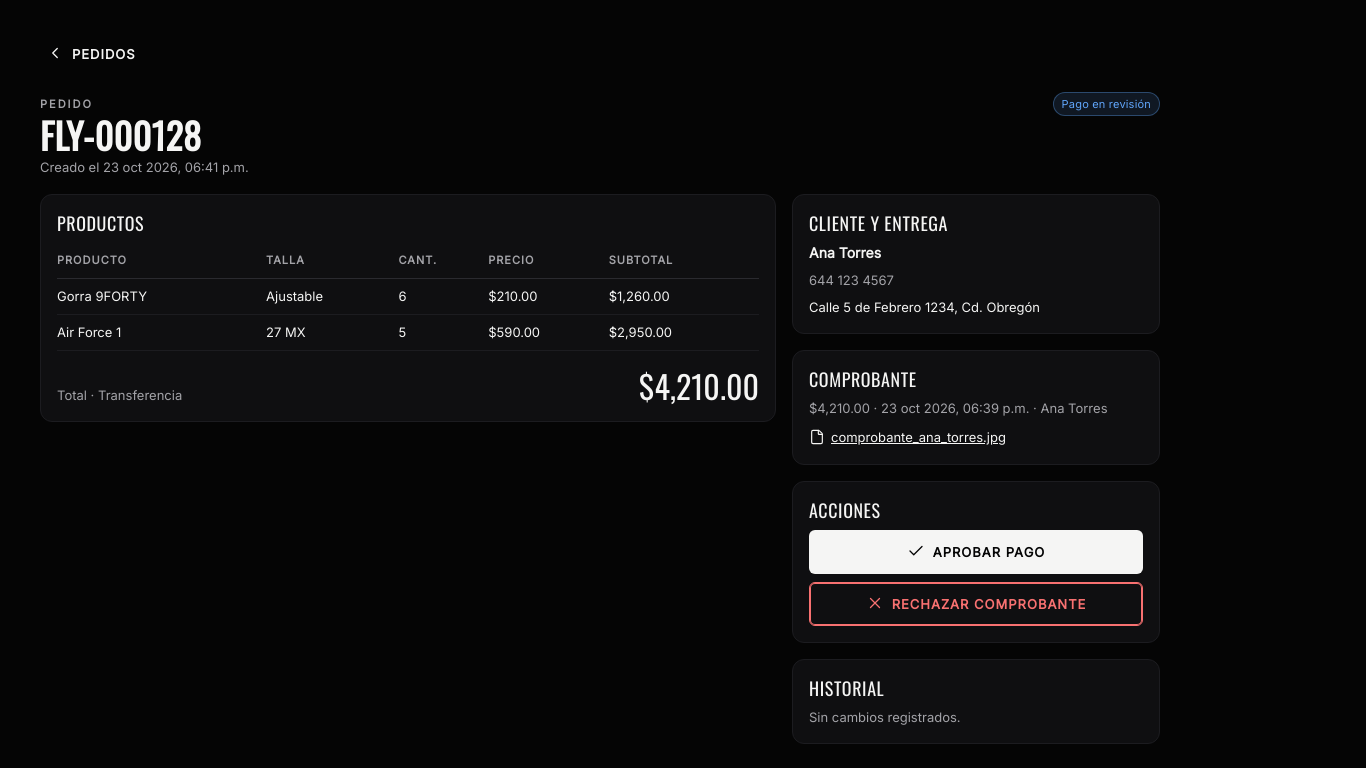
Test case: DetallePedidoVista · Front 3 · validar pago › no rechaza sin motivo: pide indicarlo y lo quita al elegir uno
The image size is (1366, 768).
Expected: the heading "FLY-000128" is shown, 40,108 -> 201,161
Click the button "Rechazar comprobante": (976, 604) 809,582 -> 1143,626
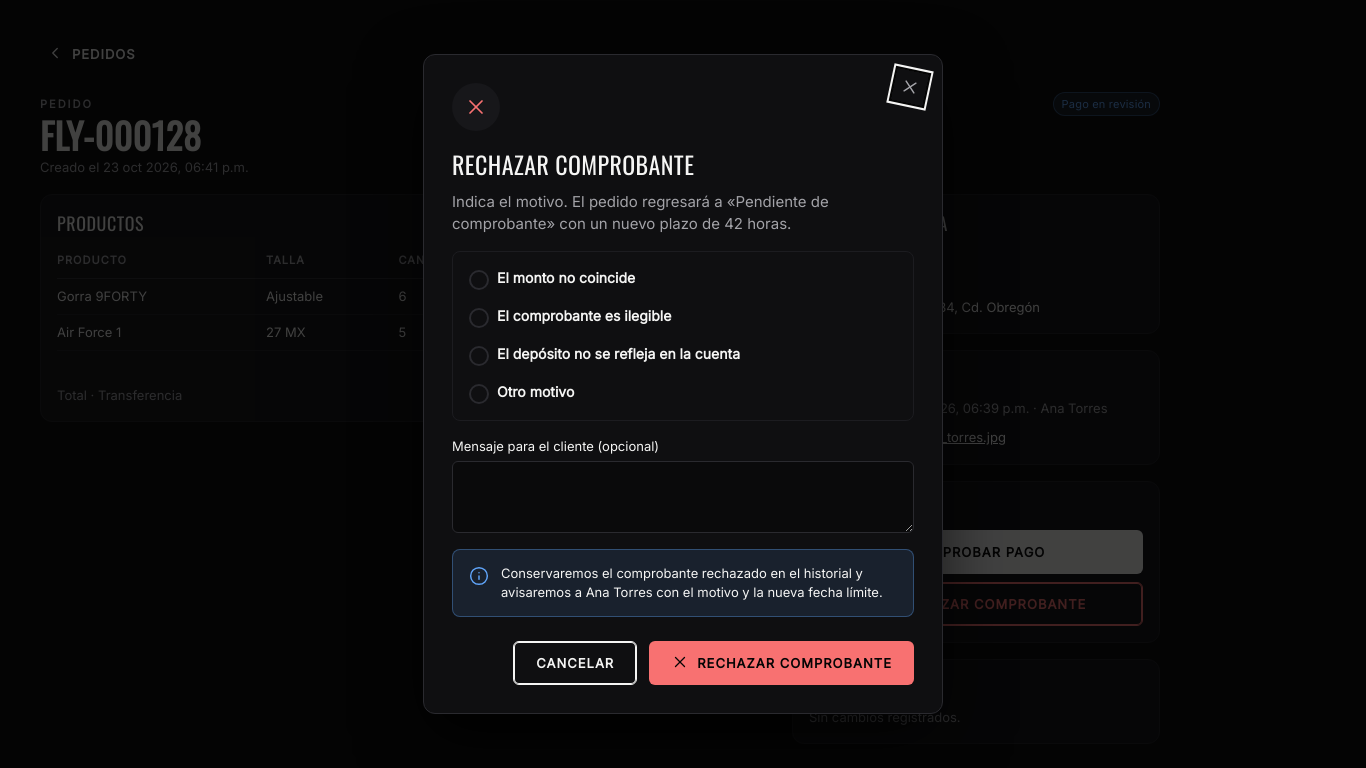
Click the button "Rechazar comprobante": (782, 663) 649,641 -> 914,685
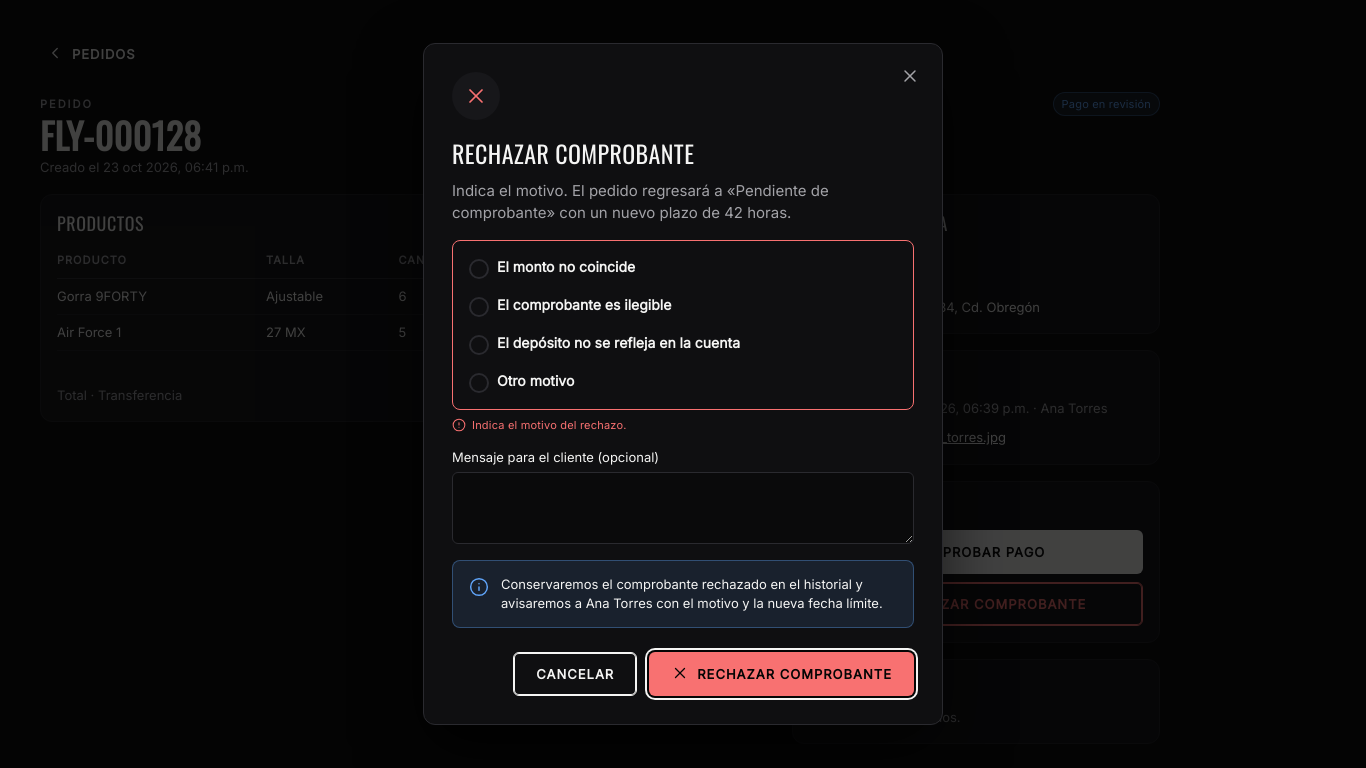
Result: the text "Indica el motivo del rechazo." is shown at 452,418 -> 627,432
Click the radio button labelled "El monto no coincide": (552, 268) 469,258 -> 635,279
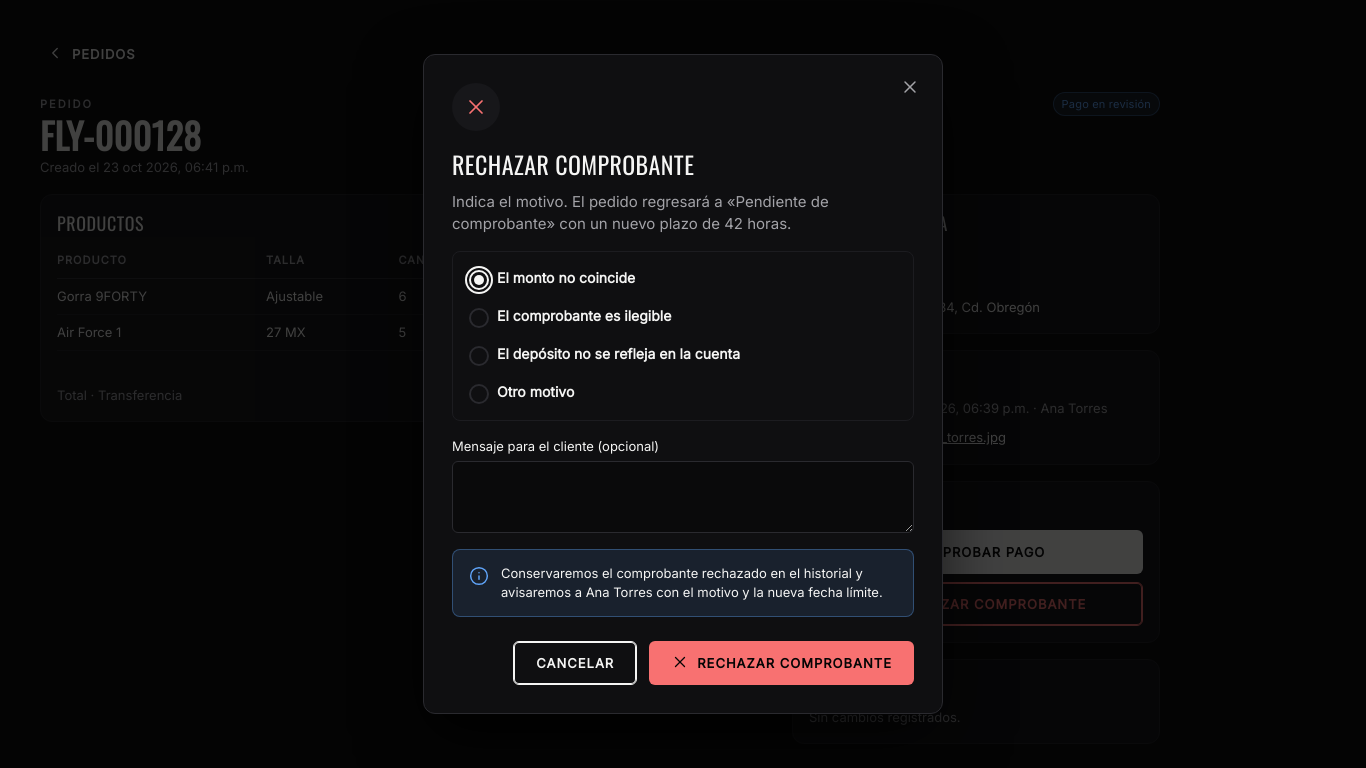
Result: the text "Indica el motivo del rechazo." is gone
